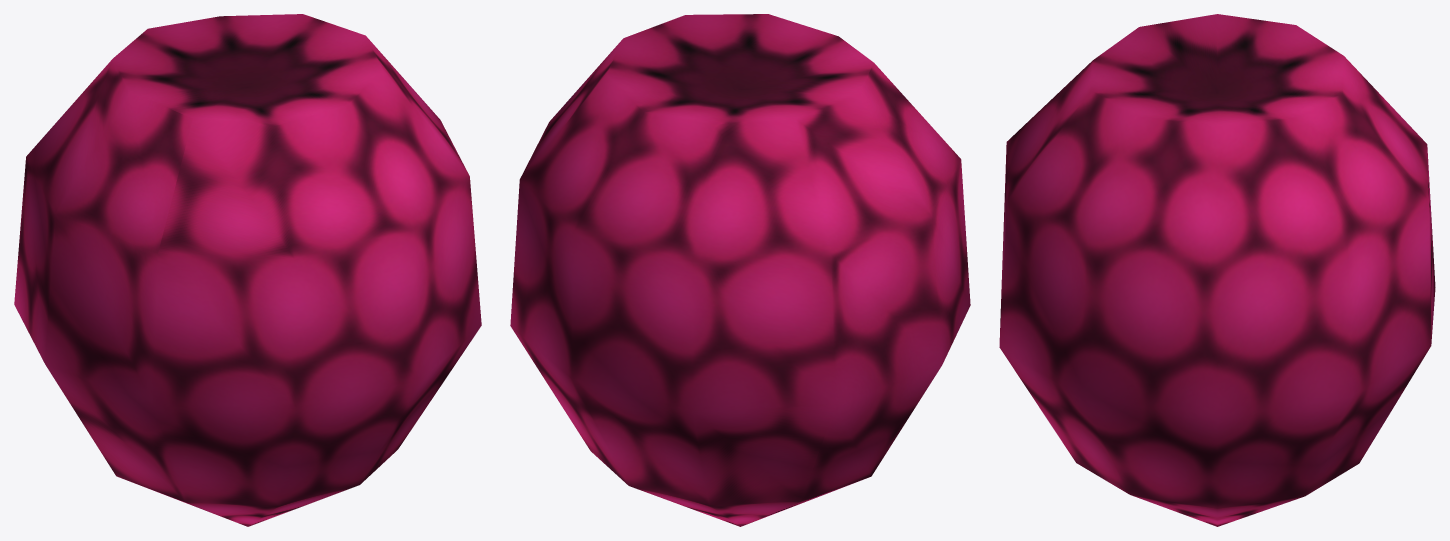
Rendered from Raspberry.fbx.
3 views of the same model, side by side, from view 1: azimuth 30°, elevation 25°; view 2: azimuth 150°, elevation 25°; view 3: azimuth 270°, elevation 25° (orthographic).
Parts seen in each view (by area): view 1: raspberry; view 2: raspberry; view 3: raspberry.
Part boxes in pixels (bbox=[...]): raspberry: bbox=[14, 14, 481, 526]; raspberry: bbox=[510, 14, 970, 526]; raspberry: bbox=[999, 14, 1435, 526].
Size of the model in its own units: 184 by 201 by 174.
1 material, 1 textured.
